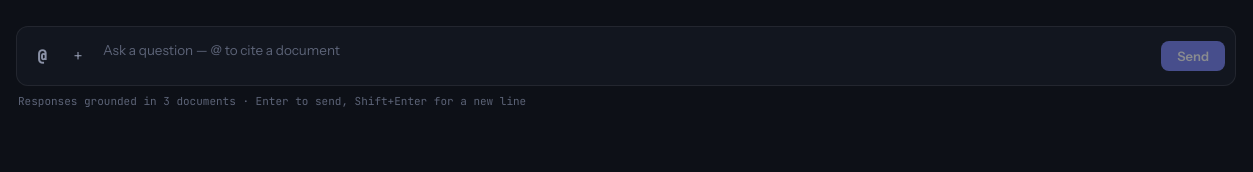
Test: FR-CMP-04 — the menu contents › is headed REFERENCE A DOCUMENT and lists every document in scope
Type "@" into the text box.
click(627, 56); type("@")  # box [99,35,1155,77]
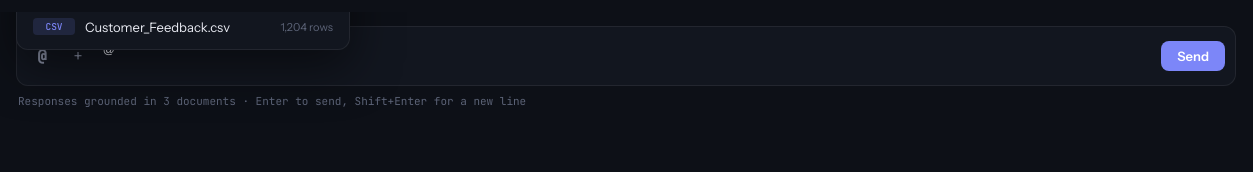
Check: the number of options is 3
